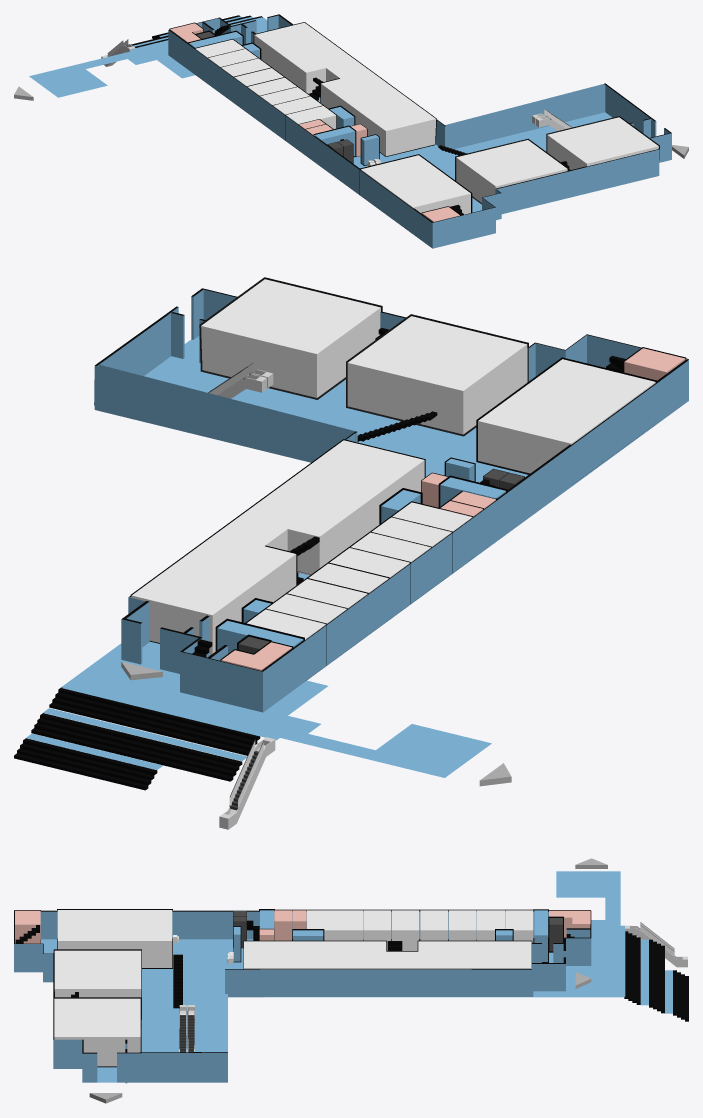
3 views of the same model, one above another, from view 1: azimuth 30°, elevation 25°; view 2: azimuth 150°, elevation 25°; view 3: azimuth 270°, elevation 25° (orthographic). The views are drawn at different scales.
Visible parts, largest first — view 1: object, room_10_1_12, room_10_1_2, room_10_1_1, room_10_1_3, object_情報コアゾーン, room_10_1_4, object_10_1_2, room_10_1_7, room_10_1_10, room_10_1_11, room_10_1_6 (+8 smaller); view 2: object, room_10_1_12, room_10_1_2, room_10_1_1, 階段_10_1_7, room_10_1_3, object_10101, object_情報コアゾーン, エスカレーター_10_1_1, room_10_1_6, room_10_1_9, room_10_1_10 (+11 smaller); view 3: object, room_10_1_12, room_10_1_3, room_10_1_1, room_10_1_2, 階段_10_1_7, object_情報コアゾーン, object_10101, room_10_1_7, room_10_1_9, room_10_1_6, room_10_1_8 (+12 smaller).
Boxes of the visible parts, x1,y1,x2,y2 form: object: [29, 14, 671, 248]; room_10_1_12: [254, 22, 436, 156]; room_10_1_2: [456, 140, 567, 202]; room_10_1_1: [547, 117, 658, 169]; room_10_1_3: [361, 155, 470, 214]; object_情報コアゾーン: [253, 22, 436, 156]; room_10_1_4: [286, 106, 336, 128]; object_10_1_2: [314, 126, 355, 156]; room_10_1_7: [247, 77, 297, 96]; room_10_1_10: [208, 49, 258, 67]; room_10_1_11: [195, 39, 244, 57]; room_10_1_6: [260, 87, 310, 105]; object: [26, 288, 688, 777]; room_10_1_12: [132, 440, 424, 653]; room_10_1_2: [347, 316, 527, 434]; room_10_1_1: [201, 279, 380, 397]; 階段_10_1_7: [14, 687, 260, 790]; room_10_1_3: [478, 359, 655, 473]; object_10101: [199, 277, 382, 399]; object_情報コアゾーン: [130, 439, 425, 655]; エスカレーター_10_1_1: [219, 737, 275, 829]; room_10_1_6: [350, 532, 430, 562]; room_10_1_9: [287, 579, 367, 608]; room_10_1_10: [266, 594, 346, 624]; object: [14, 871, 672, 1083]; room_10_1_12: [244, 941, 531, 968]; room_10_1_3: [57, 910, 172, 967]; room_10_1_1: [54, 998, 140, 1066]; room_10_1_2: [54, 950, 141, 997]; 階段_10_1_7: [624, 931, 688, 1021]; object_情報コアゾーン: [243, 940, 532, 969]; object_10101: [53, 997, 141, 1067]; room_10_1_7: [391, 910, 419, 950]; room_10_1_9: [448, 910, 476, 940]; room_10_1_6: [363, 910, 390, 950]; room_10_1_8: [420, 910, 447, 940].
Bounding box in the file's own units: 2.45 × 0.3448 × 2.9.
